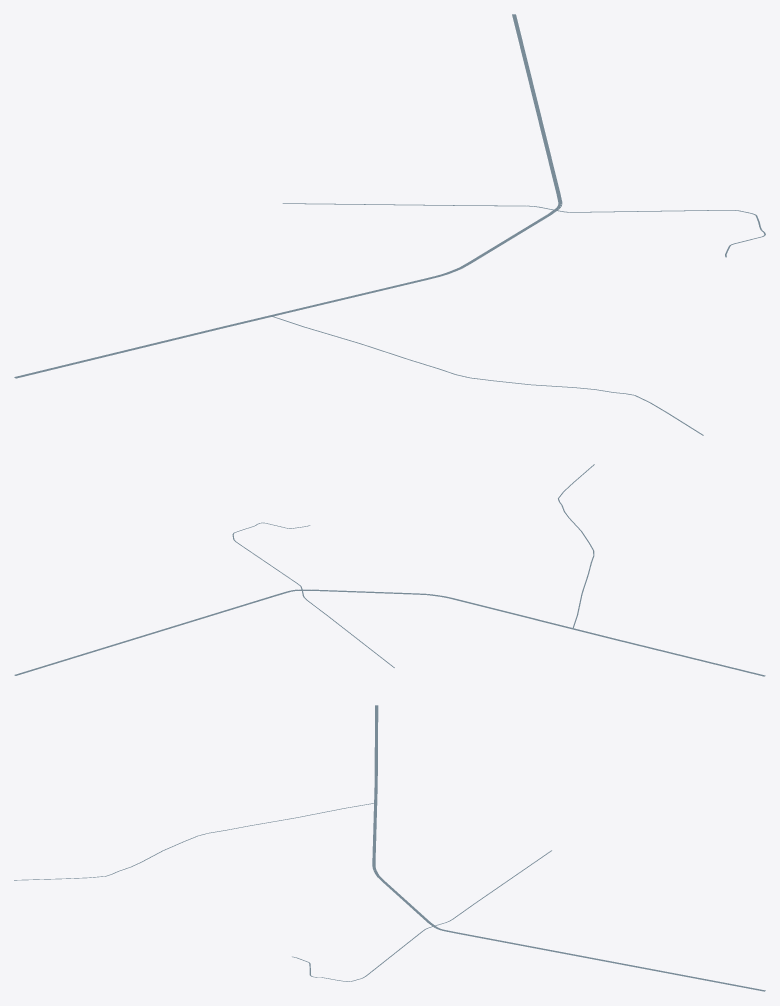
3 views of the same model, one above another, from view 1: azimuth 30°, elevation 25°; view 2: azimuth 150°, elevation 25°; view 3: azimuth 270°, elevation 25° (orthographic). The views are drawn at different scales.
Bounding box in the file's own units: 2133 × 0 × 2366.
